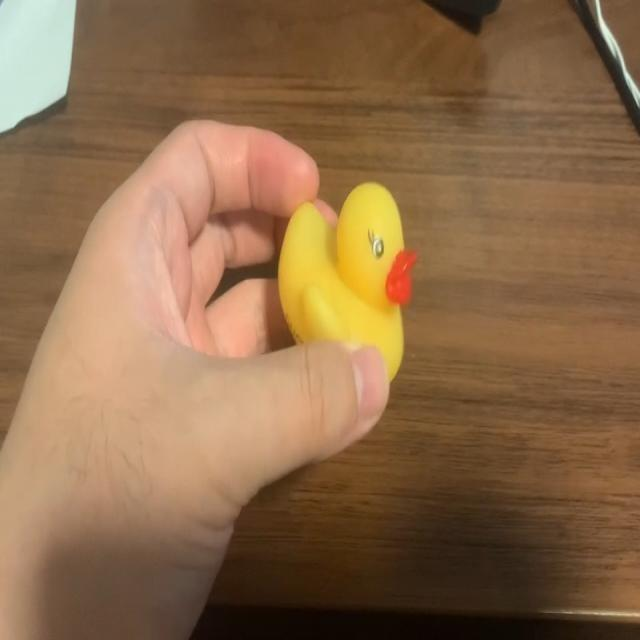rubber-duck: (277, 182, 414, 378)
